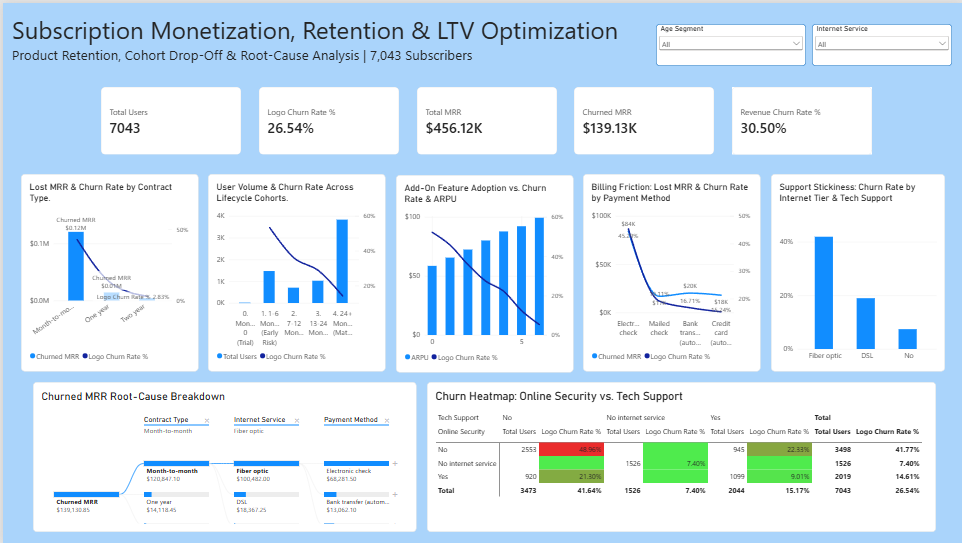

What the dashboard file says about the page in this screenshot:
{"tool":"powerbi","page":{"name":"Executive Overview","canvas":[1920,1080],"ordinal":0},"visuals":[{"type":"slicer","fields":{"Values":["vw_telco_clean.internet_service"]},"box":[1618,42,280,84],"z":0},{"type":"slicer","fields":{"Values":["vw_telco_clean.age_segment"]},"box":[1306,42,300,84],"z":1000},{"type":"cardVisual","fields":{"Data":["_Key_Measures.Total Users"]},"box":[195,168.3,280,135],"z":2000,"group":"g1"},{"type":"lineClusteredColumnComboChart","title":"Lost MRR & Churn Rate by Contract Type.","fields":{"Category":["vw_telco_clean.contract_type"],"Y":["_Key_Measures.Churned MRR"],"Y2":["_Key_Measures.Logo Churn Rate %"]},"box":[36.7,342.5,355,395],"z":2000,"group":"g2"},{"type":"cardVisual","fields":{"Data":["_Key_Measures.Churned MRR"]},"box":[1141.7,168.3,280,135],"z":3000,"group":"g1"},{"type":"lineClusteredColumnComboChart","title":"User Volume & Churn Rate Across Lifecycle Cohorts.","fields":{"Category":["vw_telco_clean.tenure_cohort"],"Y":["_Key_Measures.Total Users"],"Y2":["_Key_Measures.Logo Churn Rate %"]},"box":[411.5,342.5,355,395],"z":3000,"group":"g2"},{"type":"cardVisual","fields":{"Data":["_Key_Measures.Revenue Churn Rate %"]},"box":[1456.7,168.3,280,135],"z":4000,"group":"g1"},{"type":"decompositionTreeVisual","title":"Churned MRR Root-Cause Breakdown","fields":{"Analyze":["_Key_Measures.Churned MRR"],"ExplainBy":["vw_telco_clean.contract_type","vw_telco_clean.internet_service","vw_telco_clean.payment_method","vw_telco_clean.tenure_cohort"]},"box":[60,758.3,766.7,300],"z":4000},{"type":"cardVisual","fields":{"Data":["_Key_Measures.Logo Churn Rate %"]},"box":[510,168.3,280,135],"z":5000,"group":"g1"},{"type":"lineClusteredColumnComboChart","title":"Add-On Feature Adoption vs. Churn Rate & ARPU","fields":{"Category":["vw_telco_clean.active_addons_count"],"Y":["_Key_Measures.ARPU"],"Y2":["_Key_Measures.Logo Churn Rate %"]},"box":[786.3,342.9,355,395],"z":5000,"group":"g2"},{"type":"cardVisual","fields":{"Data":["_Key_Measures.Total MRR"]},"box":[826.7,168.3,280,135],"z":6000,"group":"g1"},{"type":"pivotTable","title":"Churn Heatmap: Online Security vs. Tech Support","fields":{"Columns":["vw_telco_clean.tech_support"],"Rows":["vw_telco_clean.online_security"],"Values":["_Key_Measures.Total Users","_Key_Measures.Logo Churn Rate %"]},"box":[848.3,758.3,1018.3,300],"z":6000},{"type":"textbox","box":[18.3,20,1265,105],"z":7000},{"type":"group","id":"g1","title":"Group 1","box":[195,168.3,1541.7,135],"z":8000},{"type":"lineChart","title":"Billing Friction: Lost MRR & Churn Rate by Payment Method","fields":{"Category":["vw_telco_clean.payment_method"],"Y":["_Key_Measures.Churned MRR"],"Y2":["_Key_Measures.Logo Churn Rate %"]},"box":[1161.1,341.7,355,395],"z":9000,"group":"g2"},{"type":"clusteredColumnChart","title":"Support Stickiness: Churn Rate by Internet Tier & Tech Support","fields":{"Category":["vw_telco_clean.internet_service"],"Y":["_Key_Measures.Logo Churn Rate %"]},"box":[1535.9,341.7,347.5,395],"z":10000,"group":"g2"},{"type":"group","id":"g2","title":"Group 2","box":[36.7,341.7,1846.7,395],"z":10001}]}

Visuals, with their boxes in screenshot pixels (x1, y1, x2, y2), scaled from the page's 1920x1080 canvas onto the 962x543 screenshot:
slicer - vw_telco_clean.internet_service: region(811, 21, 951, 63)
slicer - vw_telco_clean.age_segment: region(654, 21, 805, 63)
cardVisual - _Key_Measures.Total Users: region(98, 85, 238, 152)
"Lost MRR & Churn Rate by Contract Type." lineClusteredColumnComboChart: region(18, 172, 196, 371)
cardVisual - _Key_Measures.Churned MRR: region(572, 85, 712, 152)
"User Volume & Churn Rate Across Lifecycle Cohorts." lineClusteredColumnComboChart: region(206, 172, 384, 371)
cardVisual - _Key_Measures.Revenue Churn Rate %: region(730, 85, 870, 152)
"Churned MRR Root-Cause Breakdown" decompositionTreeVisual: region(30, 381, 414, 532)
cardVisual - _Key_Measures.Logo Churn Rate %: region(256, 85, 396, 152)
"Add-On Feature Adoption vs. Churn Rate & ARPU" lineClusteredColumnComboChart: region(394, 172, 572, 371)
cardVisual - _Key_Measures.Total MRR: region(414, 85, 555, 152)
"Churn Heatmap: Online Security vs. Tech Support" pivotTable: region(425, 381, 935, 532)
textbox: region(9, 10, 643, 63)
"Group 1" group: region(98, 85, 870, 152)
"Billing Friction: Lost MRR & Churn Rate by Payment Method" lineChart: region(582, 172, 760, 370)
"Support Stickiness: Churn Rate by Internet Tier & Tech Support" clusteredColumnChart: region(770, 172, 944, 370)
"Group 2" group: region(18, 172, 944, 370)
